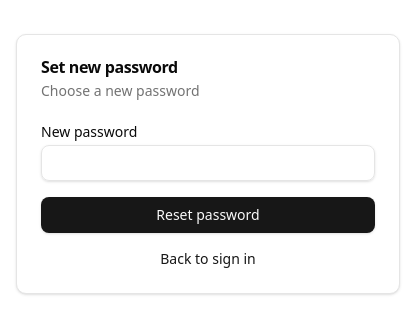
<Reset> › shows error on 400
This screenshot has width=417, height=330.
Type "newpassword" into the password field labelled "New password". click: coordinates (208, 163)
box: top-left (41, 145), bottom-right (375, 181)
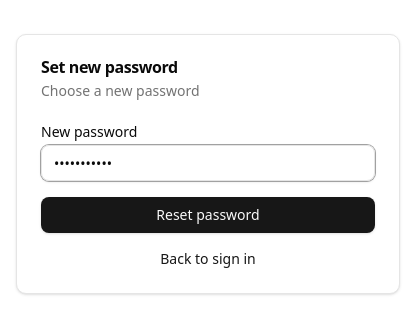
Click the button "Reset password". click: coordinates (208, 215)
box: top-left (41, 197), bottom-right (375, 233)
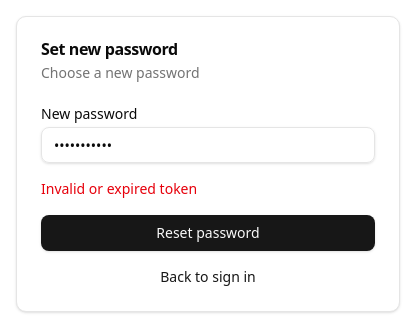
Now the text "Invalid or expired token" is shown, box top-left (41, 179), bottom-right (197, 198)
